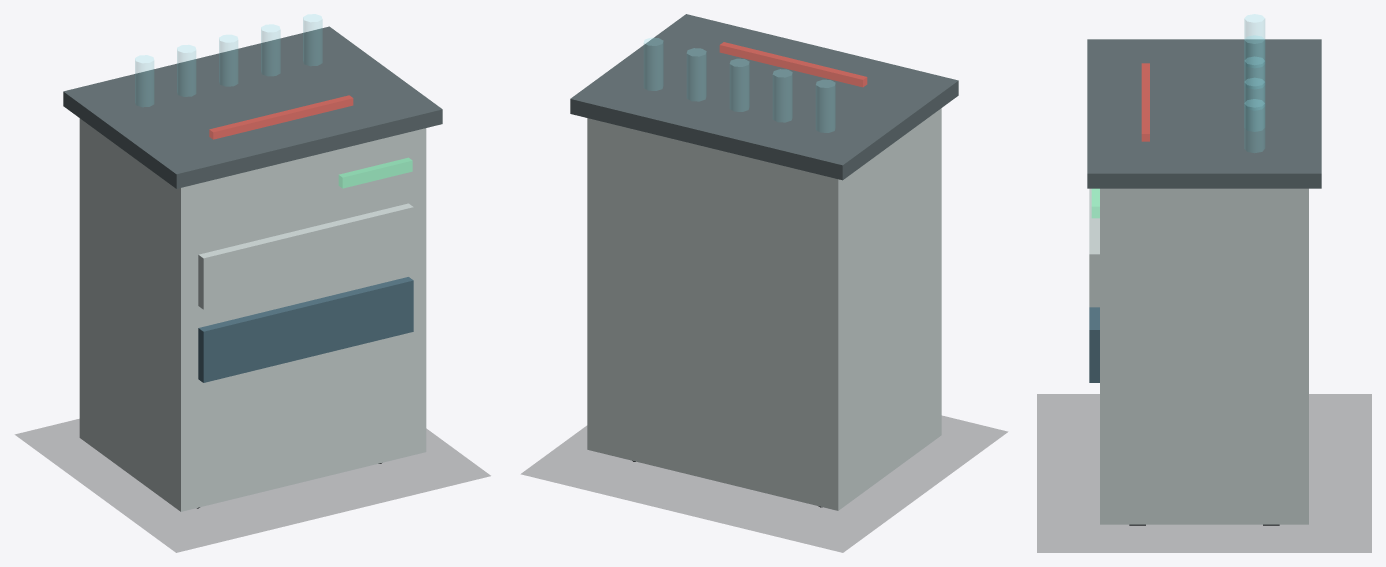
Rendered from hp_room_rm_clinic_dosage_cart.glb.
The picture shows the model from 3 angles, left to right: view 1: azimuth 30°, elevation 25°; view 2: azimuth 150°, elevation 25°; view 3: azimuth 270°, elevation 25°; orthographic projection. The views are drawn at different scales.
Parts seen in each view (by area): view 1: cart_frame, tray_top, contact_shadow, drawer_a, drawer_b, empty_row_tag, dose_meter, vial_3, vial_4, vial_1, vial_0, vial_2; view 2: cart_frame, tray_top, contact_shadow, empty_row_tag, vial_1, vial_3, vial_0, vial_4, vial_2; view 3: cart_frame, tray_top, contact_shadow, drawer_a, vial_4, vial_3, vial_1, vial_0, vial_2, drawer_b, empty_row_tag.
Boxes of the visible parts, left/top/right/bottom form: cart_frame: left=79, top=118, right=426, bottom=511; tray_top: left=63, top=26, right=442, bottom=188; contact_shadow: left=15, top=419, right=490, bottom=552; drawer_a: left=198, top=203, right=413, bottom=309; drawer_b: left=198, top=277, right=413, bottom=382; empty_row_tag: left=209, top=95, right=353, bottom=139; dose_meter: left=338, top=157, right=412, bottom=188; vial_3: left=261, top=24, right=280, bottom=75; vial_4: left=303, top=14, right=322, bottom=65; vial_1: left=177, top=45, right=195, bottom=96; vial_0: left=135, top=55, right=153, bottom=106; vial_2: left=219, top=35, right=237, bottom=86; cart_frame: left=587, top=108, right=941, bottom=510; tray_top: left=570, top=14, right=958, bottom=180; contact_shadow: left=521, top=416, right=1007, bottom=552; empty_row_tag: left=719, top=42, right=867, bottom=87; vial_1: left=773, top=69, right=792, bottom=122; vial_3: left=687, top=48, right=706, bottom=101; vial_0: left=816, top=80, right=835, bottom=132; vial_4: left=644, top=38, right=663, bottom=90; vial_2: left=730, top=59, right=749, bottom=111; cart_frame: left=1100, top=188, right=1308, bottom=524; tray_top: left=1087, top=39, right=1321, bottom=188; contact_shadow: left=1037, top=394, right=1371, bottom=552; drawer_a: left=1089, top=188, right=1099, bottom=307; vial_4: left=1244, top=99, right=1264, bottom=152; vial_3: left=1244, top=78, right=1264, bottom=131; vial_1: left=1244, top=35, right=1264, bottom=81; vial_0: left=1244, top=14, right=1264, bottom=60; vial_2: left=1244, top=56, right=1264, bottom=102; drawer_b: left=1089, top=307, right=1099, bottom=382; empty_row_tag: left=1141, top=63, right=1149, bottom=141.
Bounding box in the file's own units: 0.9 × 1.1 × 0.8.
